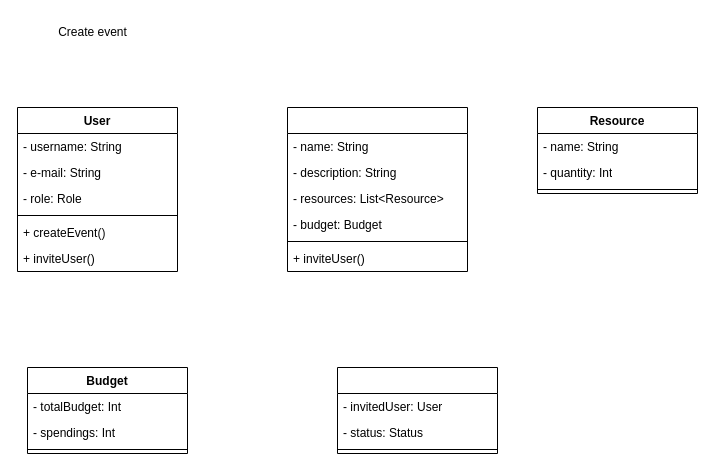
The diagram is 715 pixels wide and 471 high, and some of its shapes have lost their labels. Each missing label, with the box of its shape:
Event: (286, 106, 468, 272)
Invitation: (336, 366, 498, 454)
